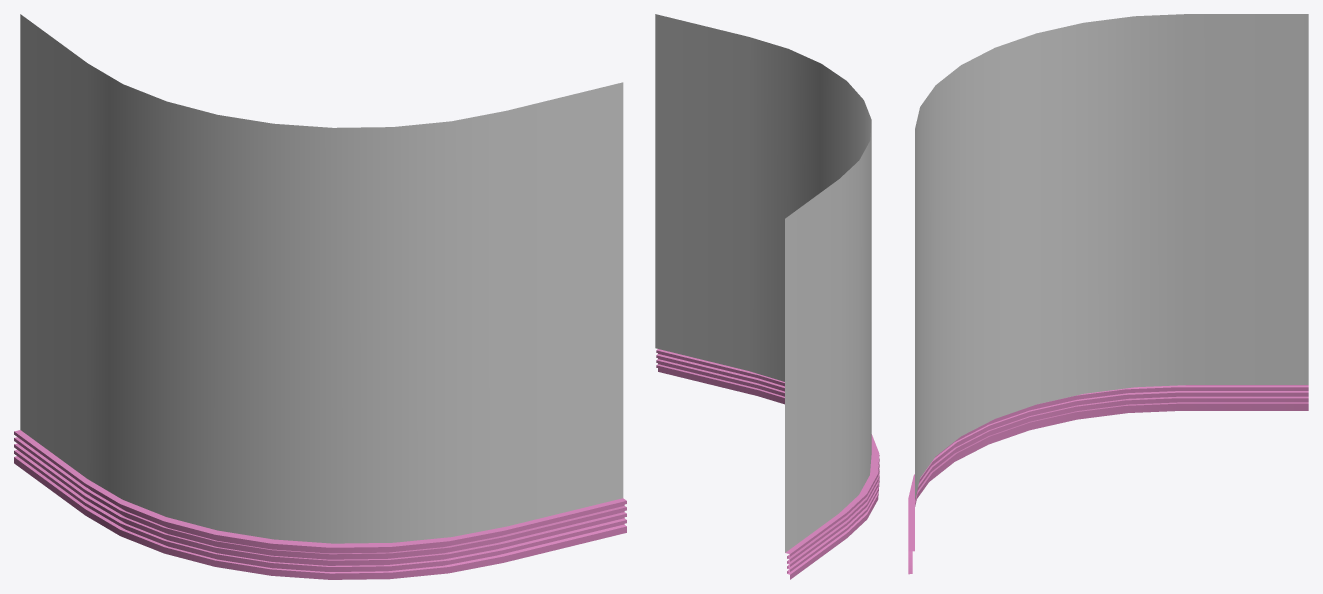
Rendered from Wall5CurveUV.fbx.
3 views of the same model, side by side, from view 1: azimuth 30°, elevation 25°; view 2: azimuth 150°, elevation 25°; view 3: azimuth 270°, elevation 25° (orthographic). The views are drawn at different scales.
Parts seen in each view (by area): view 1: Cube.011; view 2: Cube.011; view 3: Cube.011.
Boxes of the visible parts, left/top/right/bottom form: Cube.011: left=14, top=14, right=626, bottom=579; Cube.011: left=655, top=14, right=879, bottom=579; Cube.011: left=908, top=14, right=1308, bottom=574.
Bounding box in the file's own units: 635 × 700 × 635.
